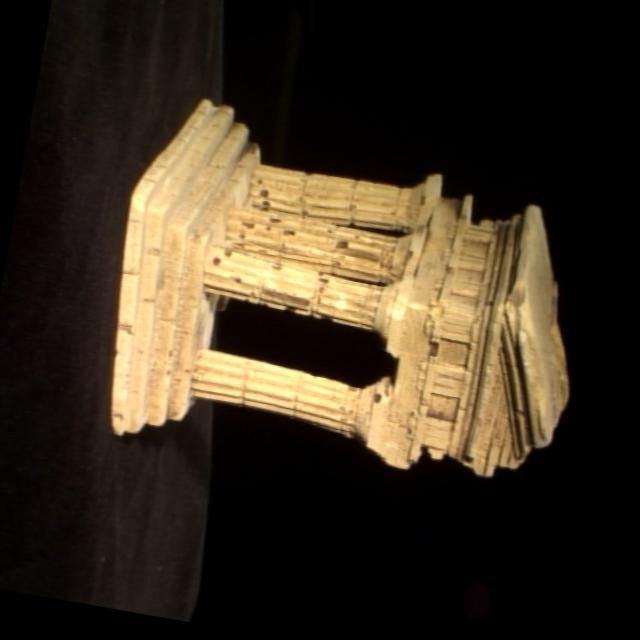Instance-Segmentation: (110, 99, 567, 474)
